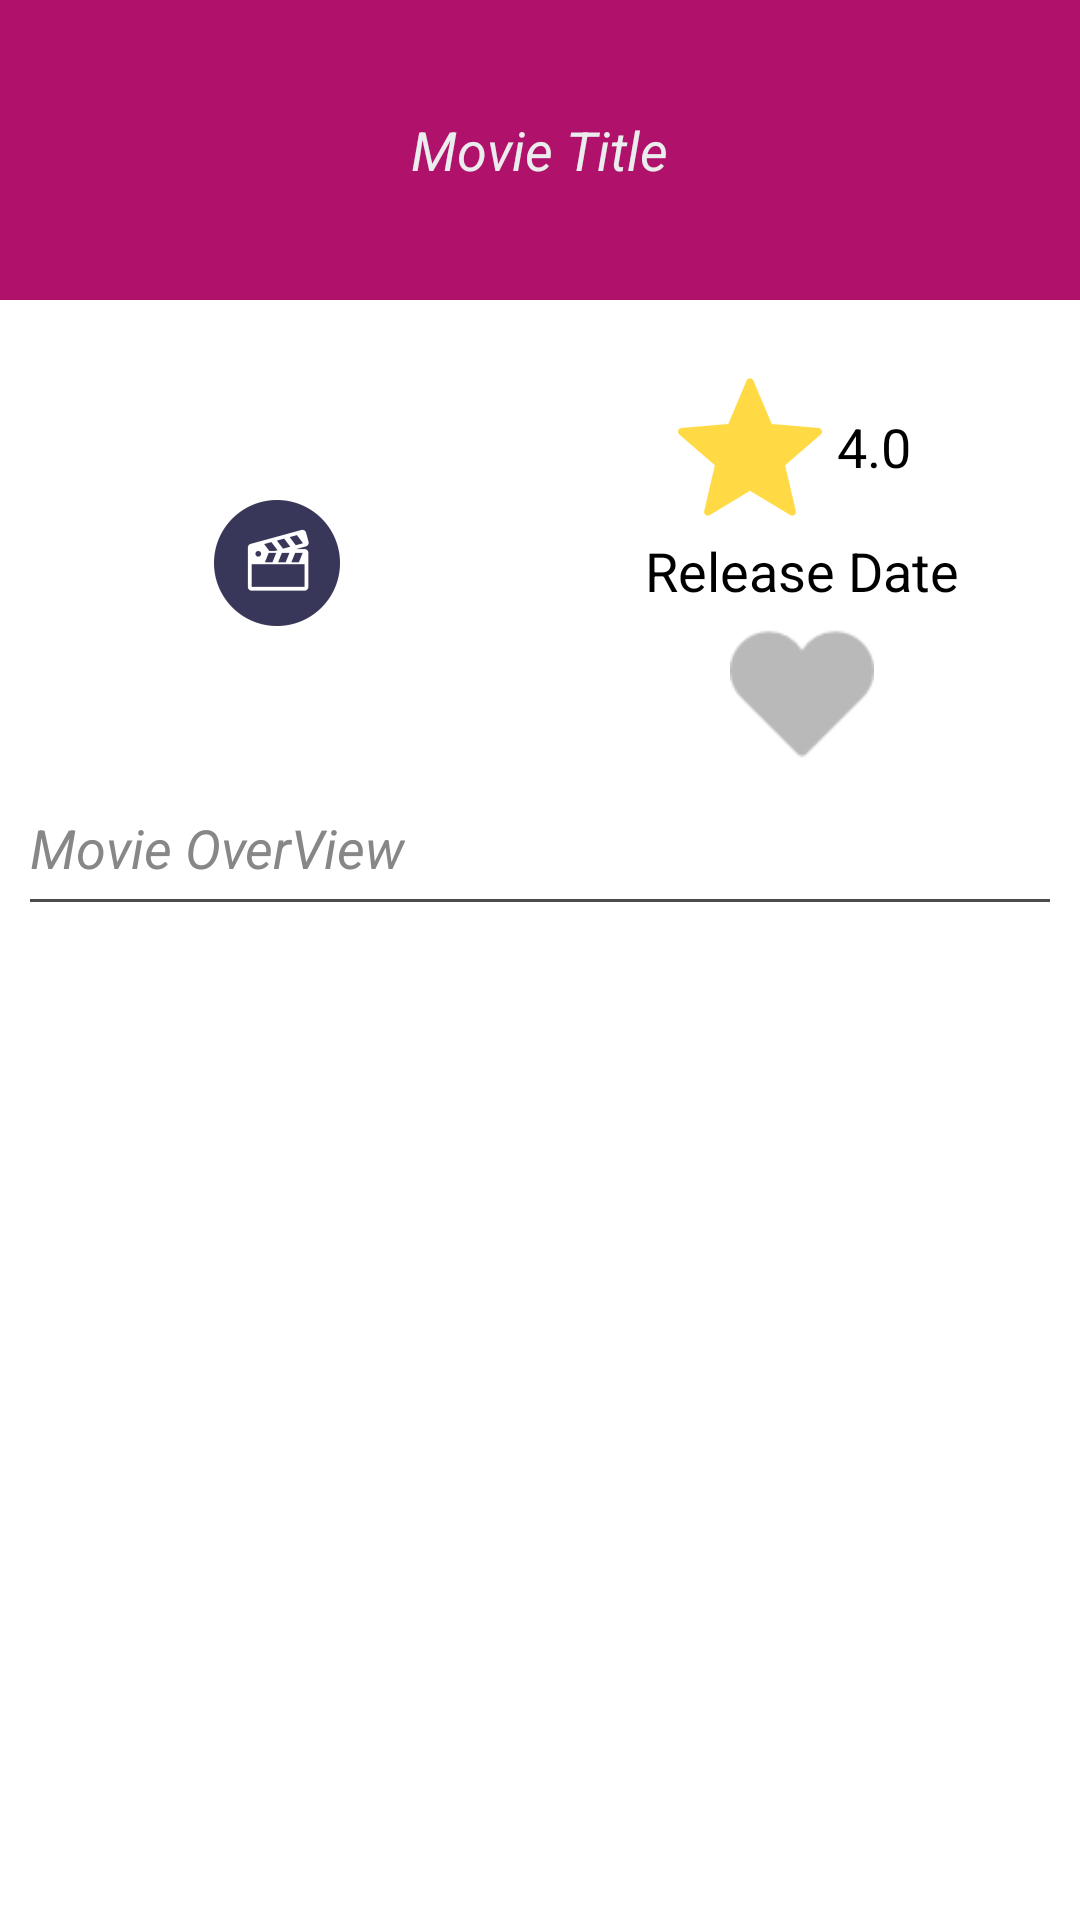

Screen size 1080 x 1920. Icon name, then its center in pixels as [x,y]:
rating: [750,447]
unmark: [802,694]
